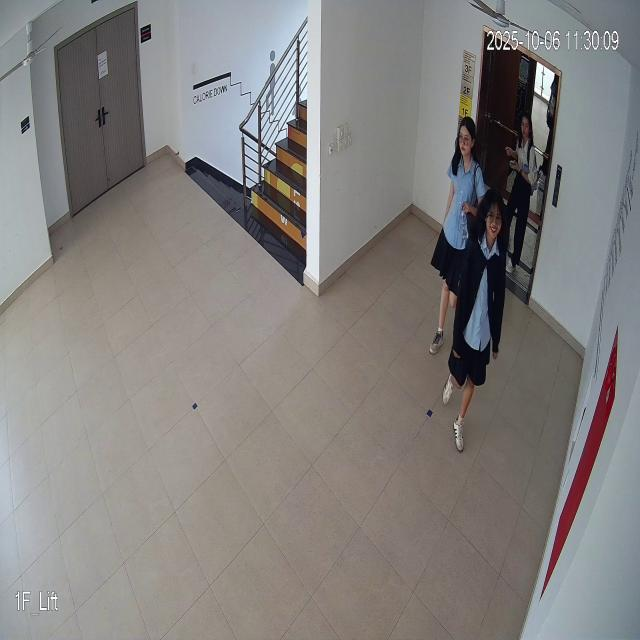face: (482, 191, 508, 244), (456, 110, 474, 169)
